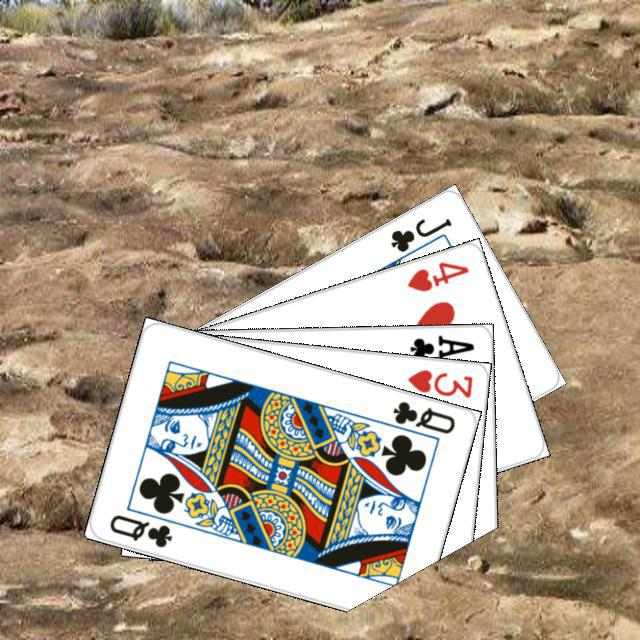3h: (402, 364, 475, 400)
4h: (402, 256, 471, 294)
Ac: (405, 330, 476, 362)
Jc: (385, 213, 454, 254)
Qc: (377, 396, 457, 445), (104, 509, 174, 550)
